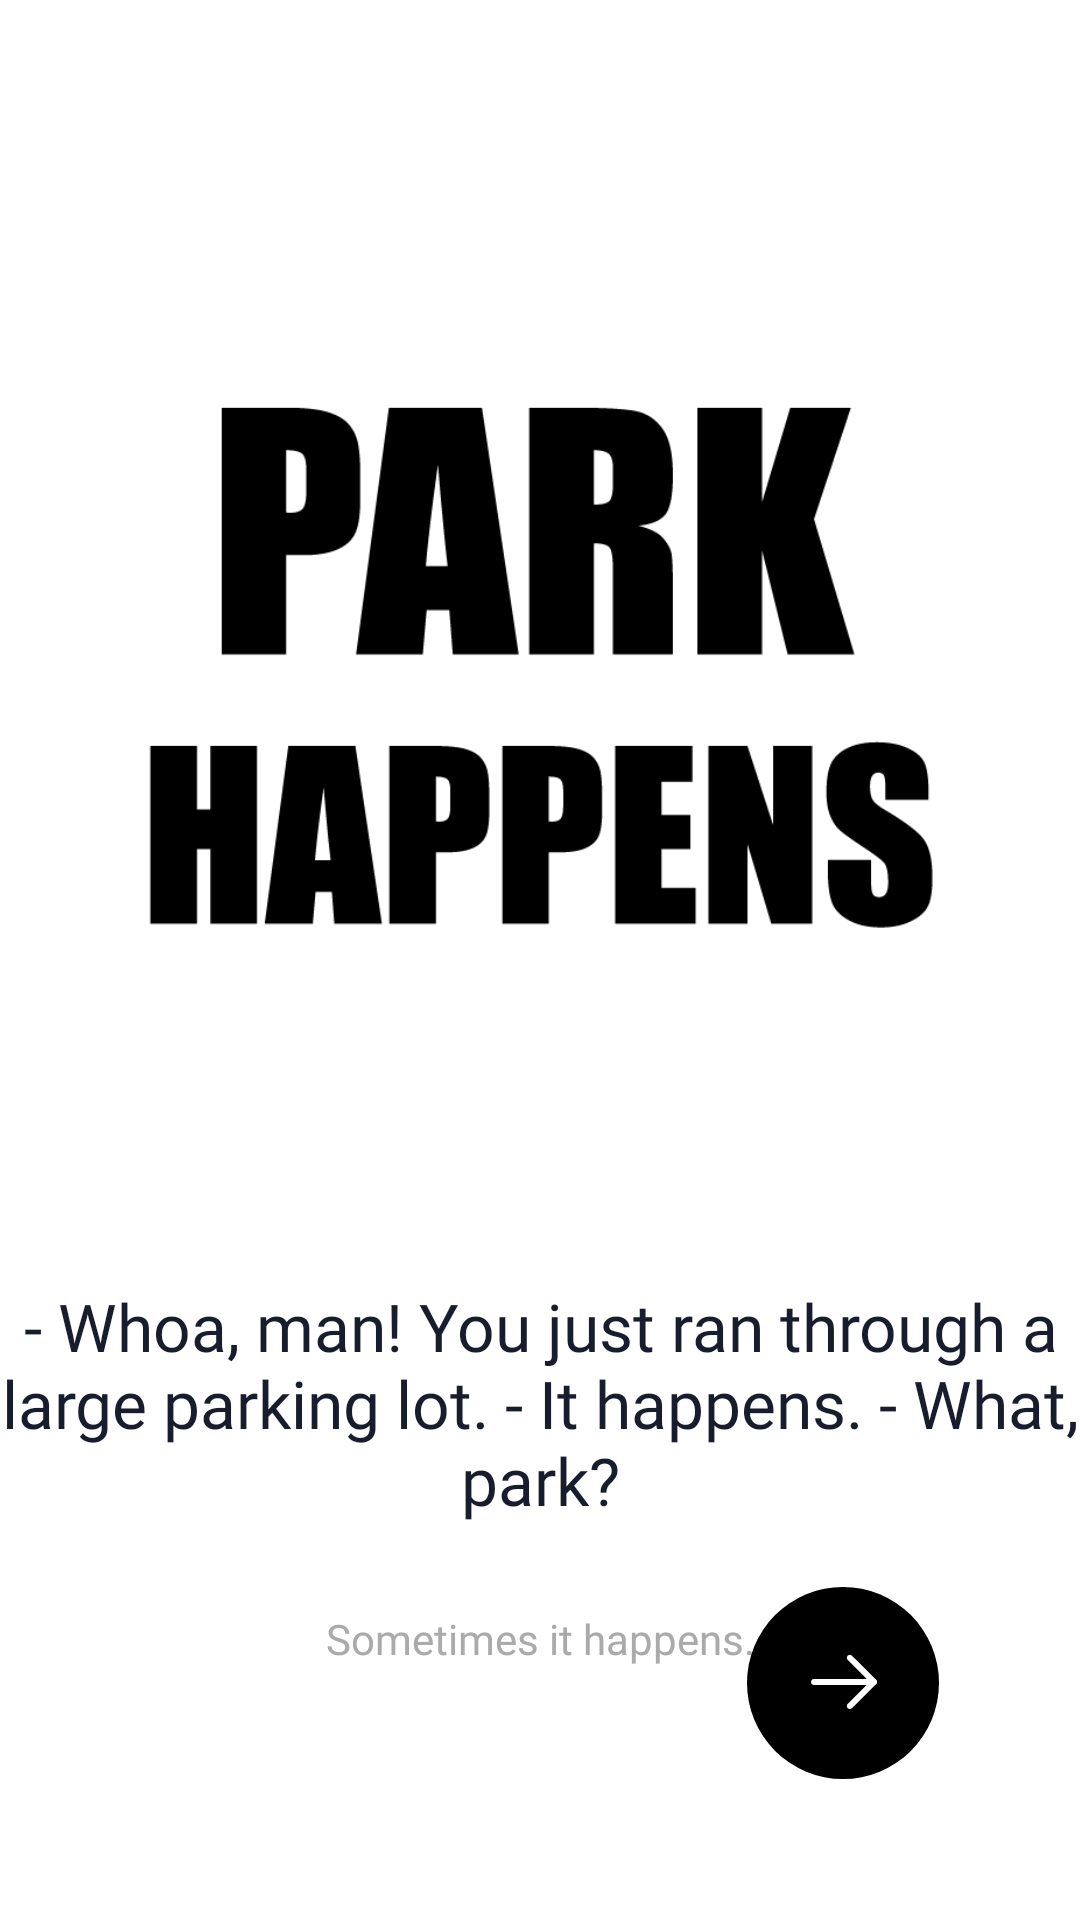

Named icons in this screenshot (1080*1920) and their bounding boxes, (x1, y1, x2, y2):
arrow: (747, 1587, 939, 1779)
